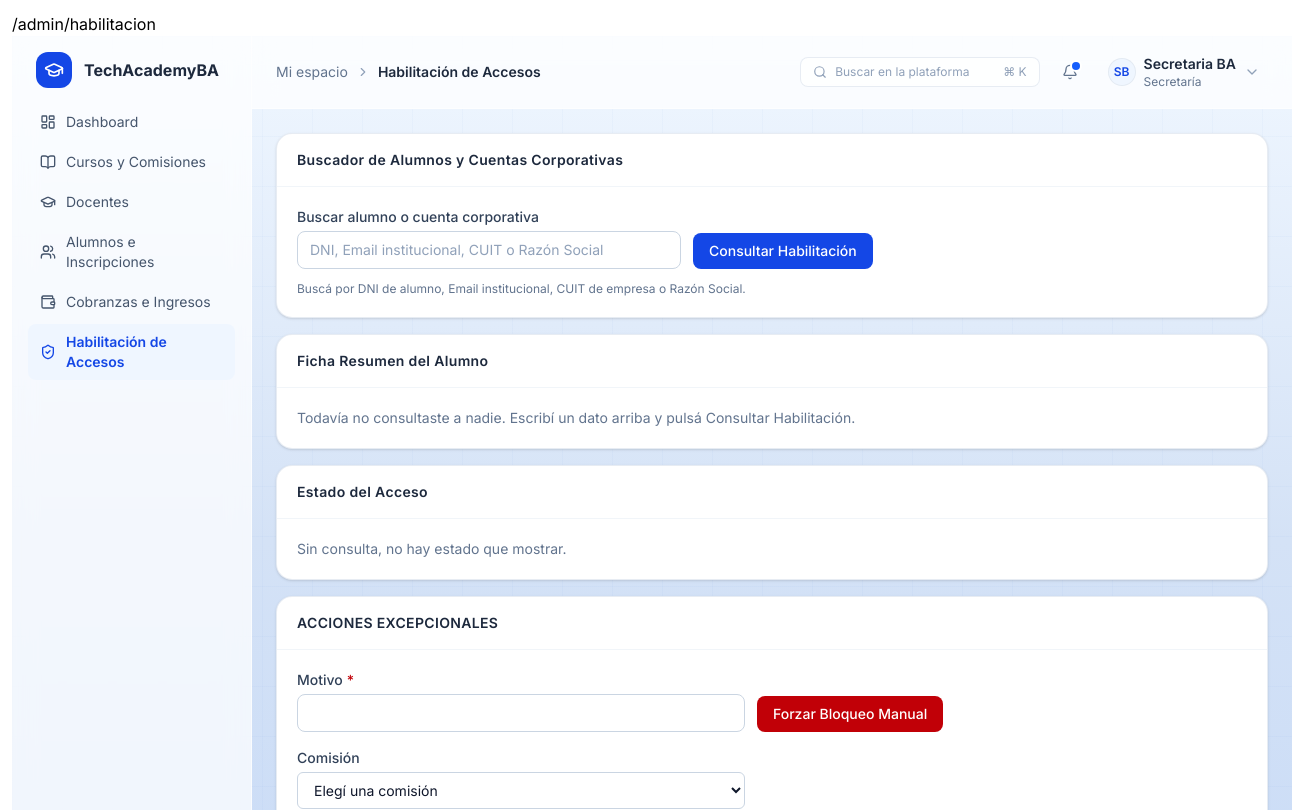
consulta de un alumno › muestra la ficha resumen con sus seis campos
Expected: the heading "Buscador de Alumnos y Cuentas Corporativas" is shown, [297,150,623,170]
Type "41.332.114" into the field labelled "Buscar alumno o cuenta corporativa" at (489, 250), box [297,231,681,269]
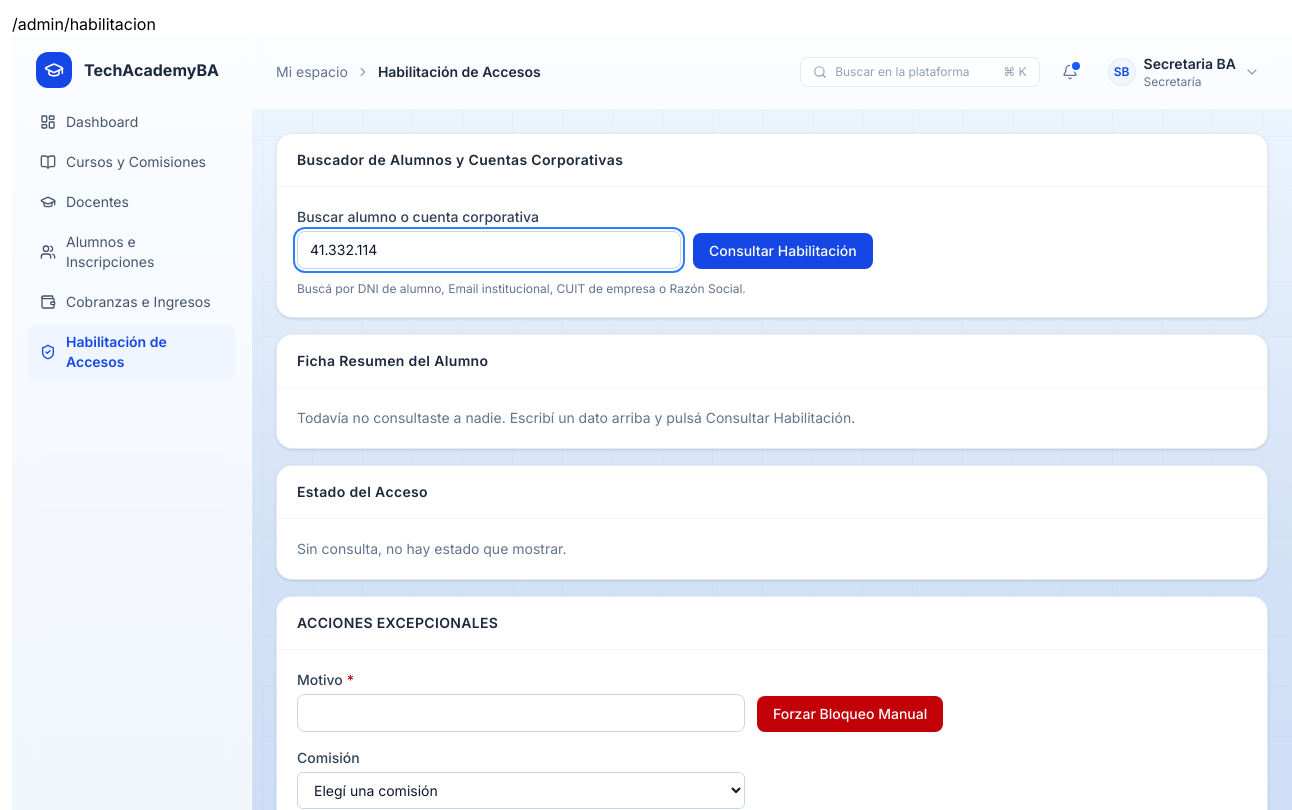
Click the button "Consultar Habilitación" at (783, 251), box [693,233,873,269]
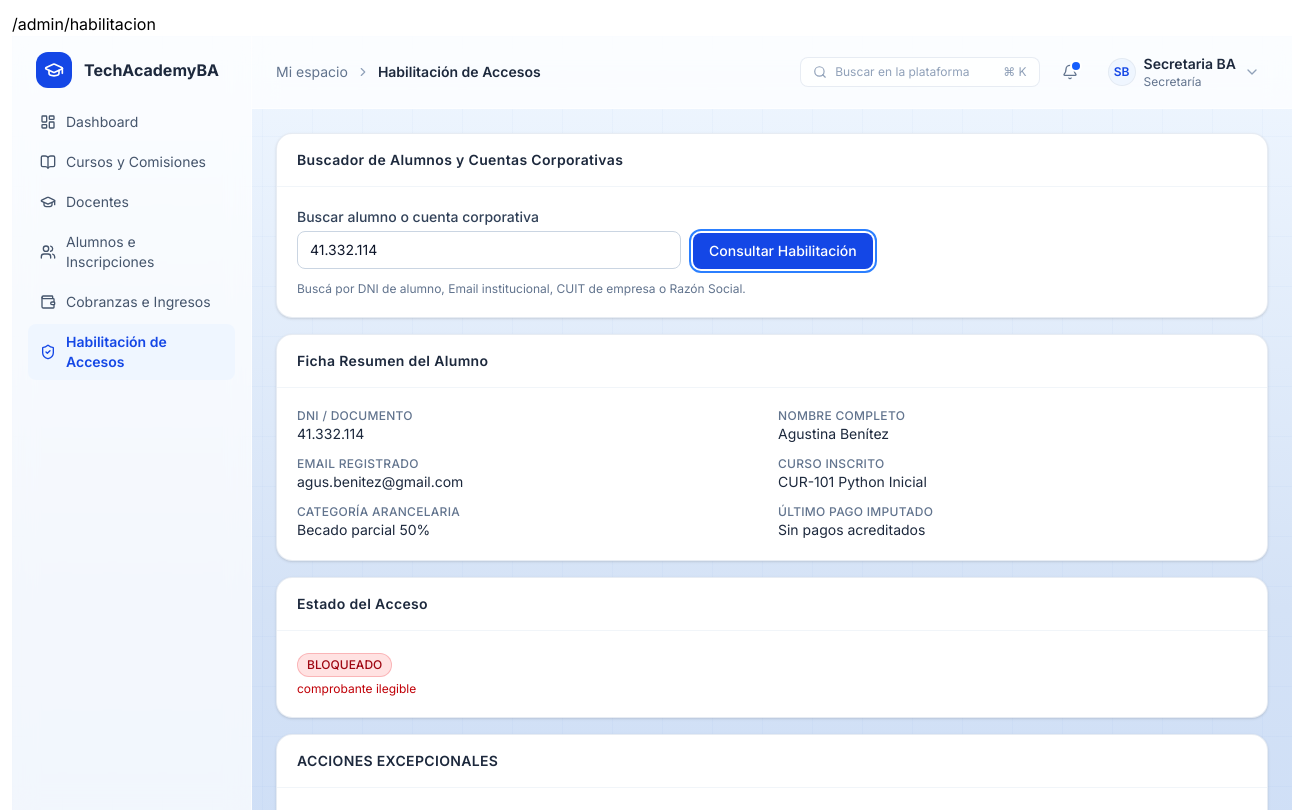
Expected: the text "Agustina Benítez" is shown, [778,425,889,442]
Expected: the element "Ficha Resumen del Alumno" shows "DNI / Documento", [297,408,413,423]
Expected: the element "Ficha Resumen del Alumno" shows "Nombre Completo", [778,408,905,423]
